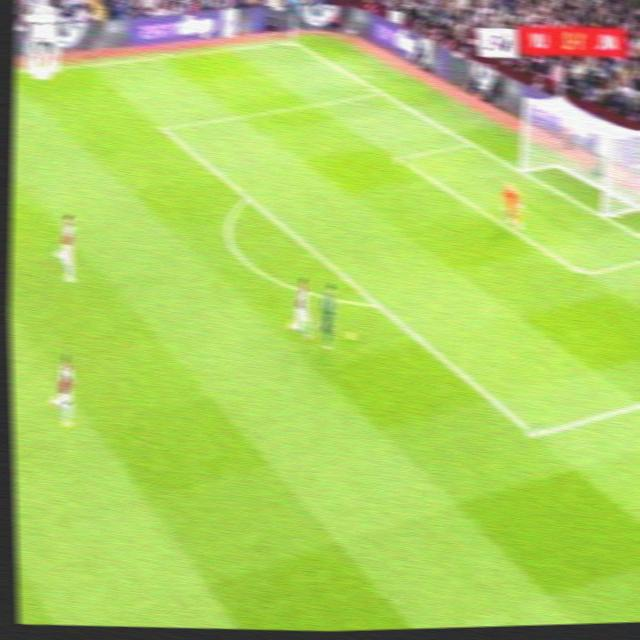bigarea_bottom_inner: (525, 423, 544, 446)
bigarea_top_inner: (156, 122, 174, 137)
bigarea_top_outter: (374, 85, 390, 101)
bottom_arc_area_intersection: (369, 296, 384, 315)
corner: (278, 34, 304, 48)
smallarea_bottom_inner: (575, 267, 592, 283)
smallarea_top_inner: (392, 151, 407, 168)
smallarea_top_outter: (462, 134, 479, 153)
top_arc_area_intersection: (239, 191, 253, 204)
